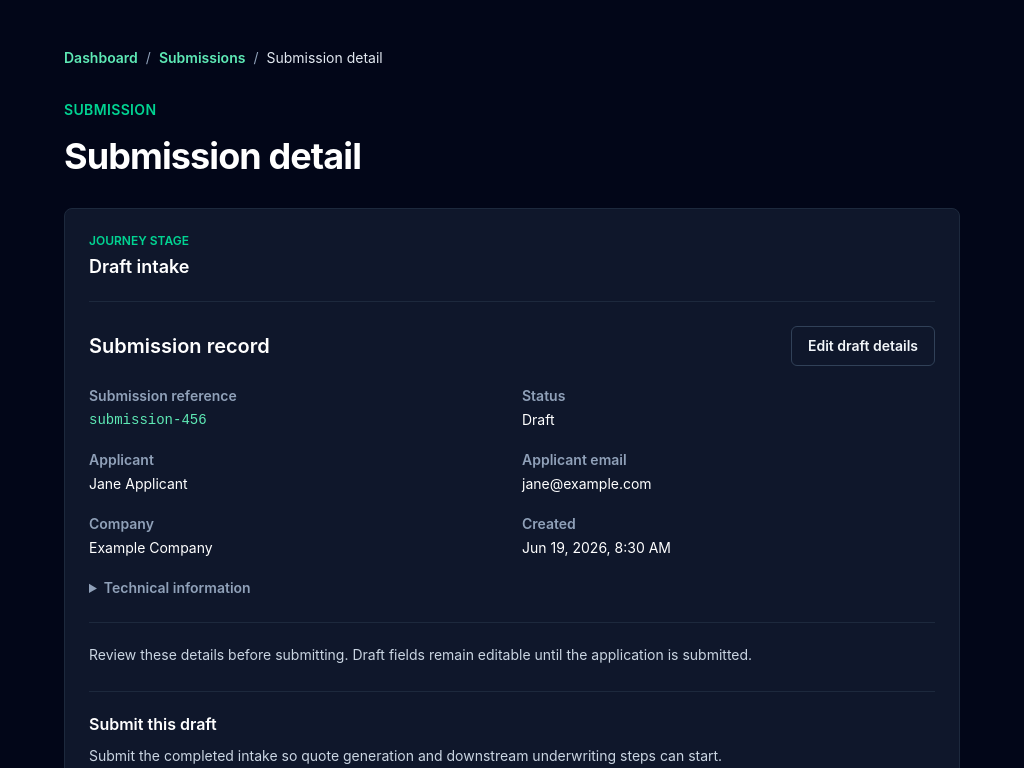
Test: SubmissionDetailPage › keeps the draft unchanged when edit mode is canceled
Step 1. Click the button "Edit draft details" → (863, 346), box [791, 326, 935, 366]
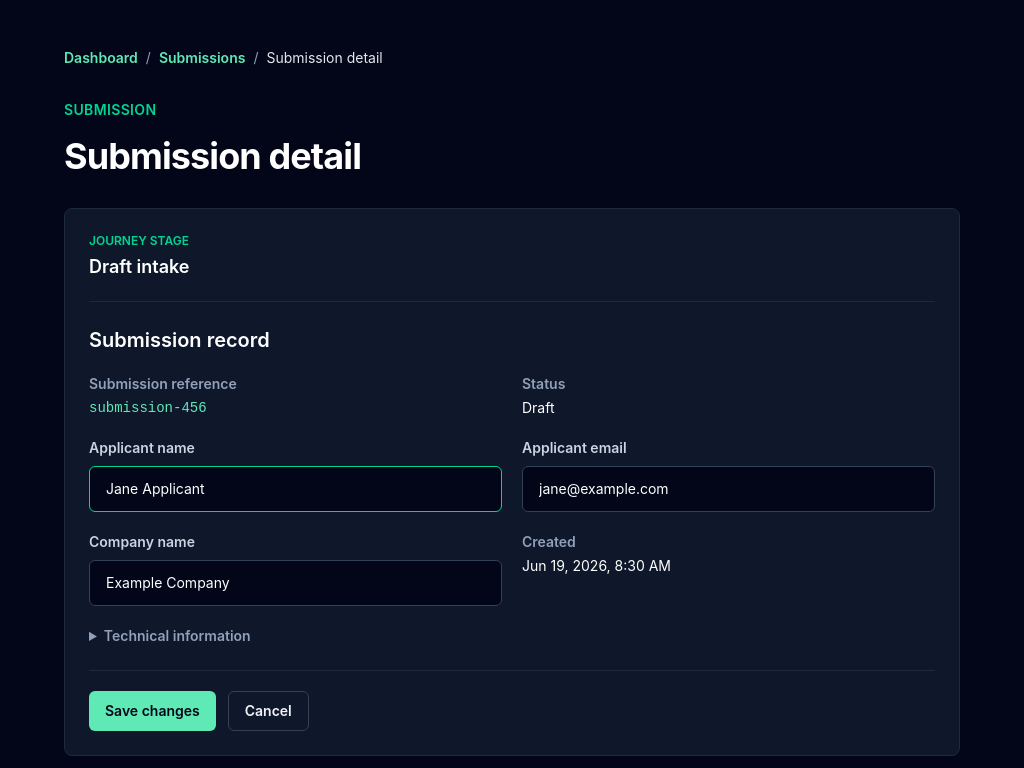
Step 2. Replace the text in the field labelled "Applicant name" with "Discarded Name" → (296, 489), box [89, 466, 502, 512]
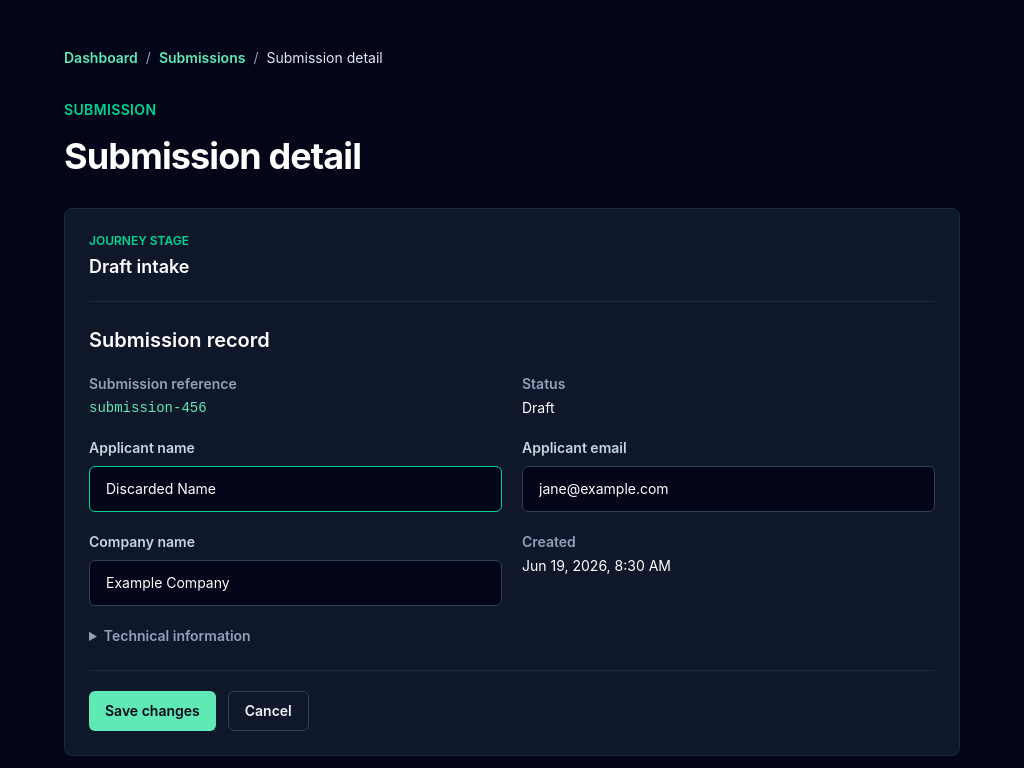
Step 3. Click the button "Cancel" → (268, 711), box [228, 691, 309, 731]
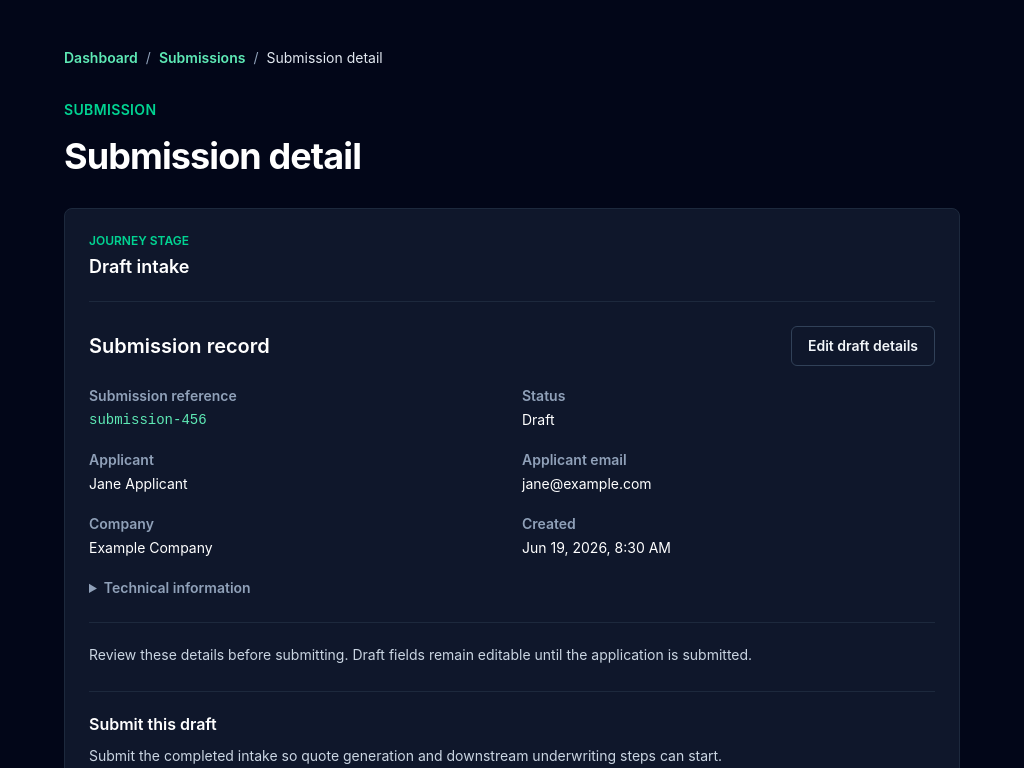
Expected: the field showing "Discarded Name" is not shown
Expected: the text "Jane Applicant" is shown, [89, 475, 188, 492]
